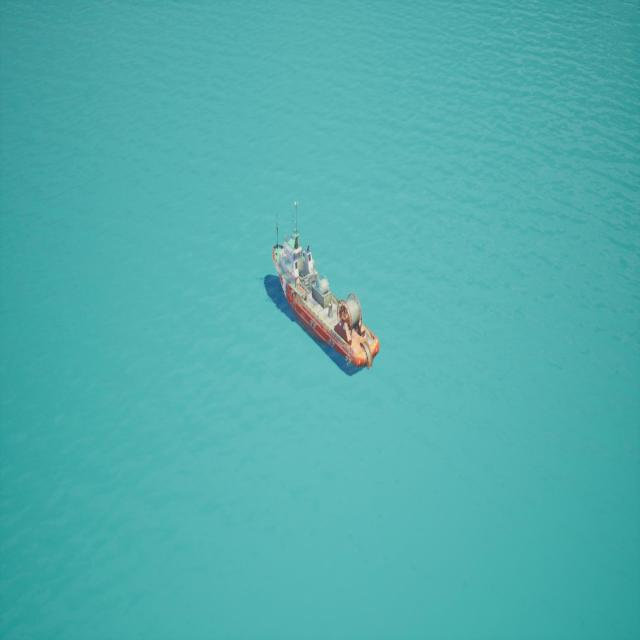tug boat: (261, 189, 378, 413)
